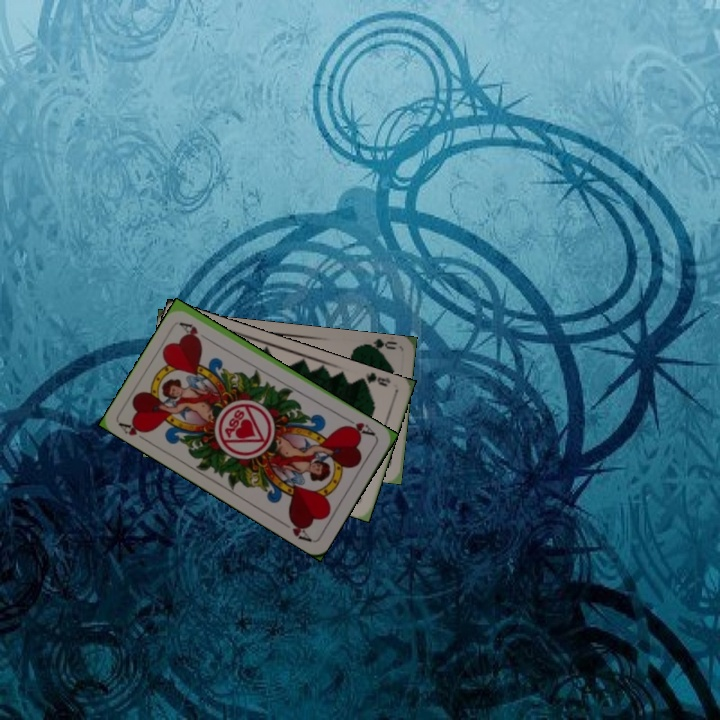G9: (356, 369, 393, 390)
GO: (359, 336, 400, 356)
HA: (116, 417, 153, 446), (340, 413, 378, 439)
